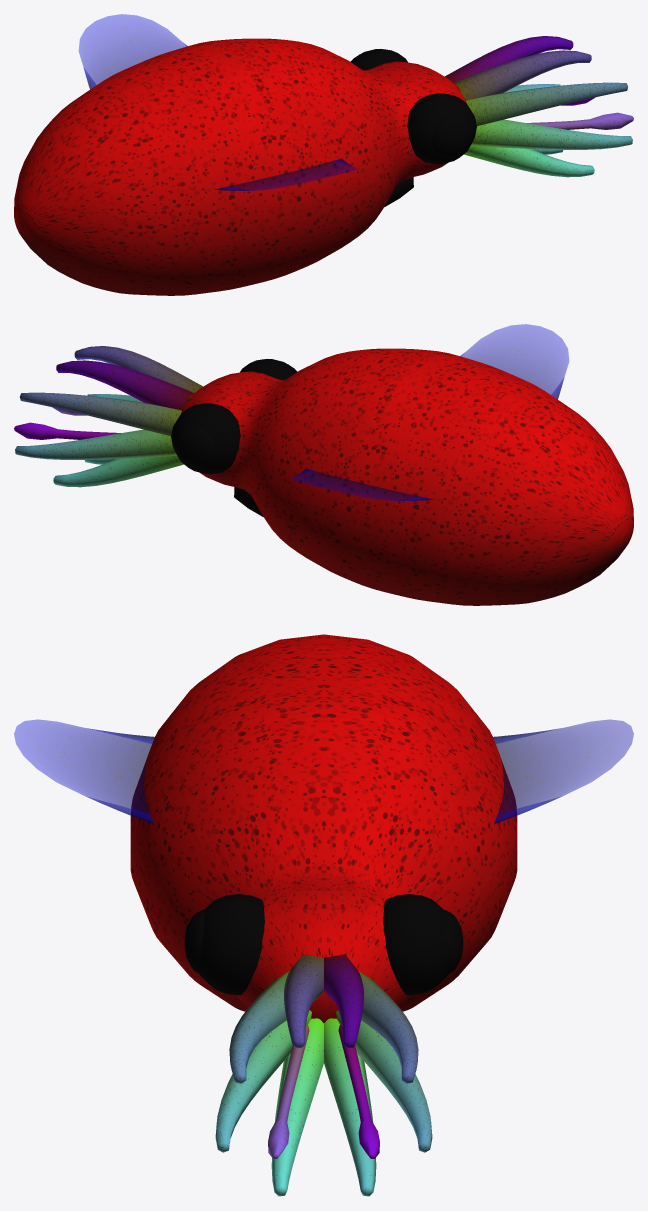
File: bobtail_squid.glb
3 views of the same model, one above another, from view 1: azimuth 30°, elevation 25°; view 2: azimuth 150°, elevation 25°; view 3: azimuth 270°, elevation 25° (orthographic). The views are drawn at different scales.
Visible parts, largest first — view 1: Body, Arms, Fins, Eyes; view 2: Body, Arms, Fins, Eyes; view 3: Body, Arms, Fins, Eyes.
Part boxes in pixels (bbox=[...]): Body: bbox=[14, 38, 466, 295]; Arms: bbox=[445, 36, 633, 177]; Fins: bbox=[79, 14, 356, 190]; Eyes: bbox=[350, 49, 476, 164]; Body: bbox=[181, 348, 633, 605]; Arms: bbox=[14, 346, 202, 487]; Fins: bbox=[291, 324, 568, 500]; Eyes: bbox=[171, 359, 297, 474]; Body: bbox=[130, 634, 517, 1022]; Arms: bbox=[215, 954, 432, 1196]; Fins: bbox=[14, 719, 633, 824]; Eyes: bbox=[184, 894, 463, 995].
Size of the model in its own units: 1 by 0.3455 by 0.64.
4 materials, 2 textured.
